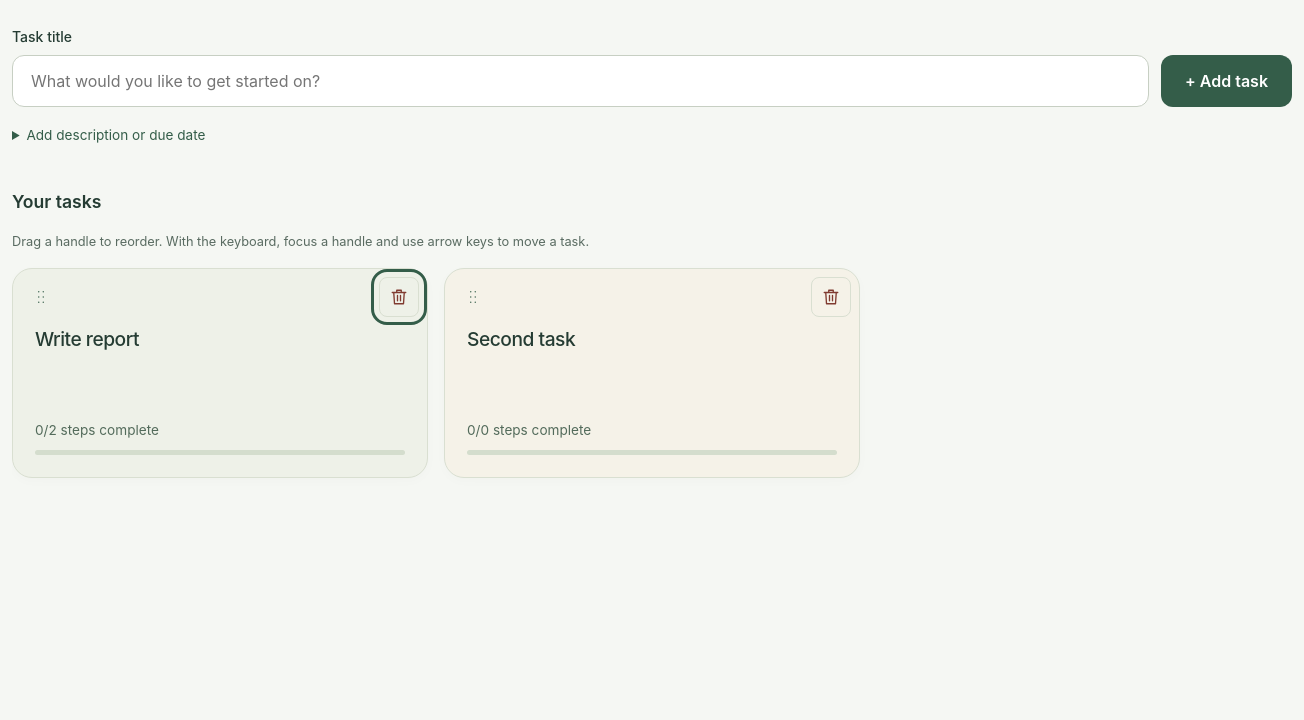
dashboard trash supports keyboard confirmation and cancel without opening or dragging a task
Press Enter
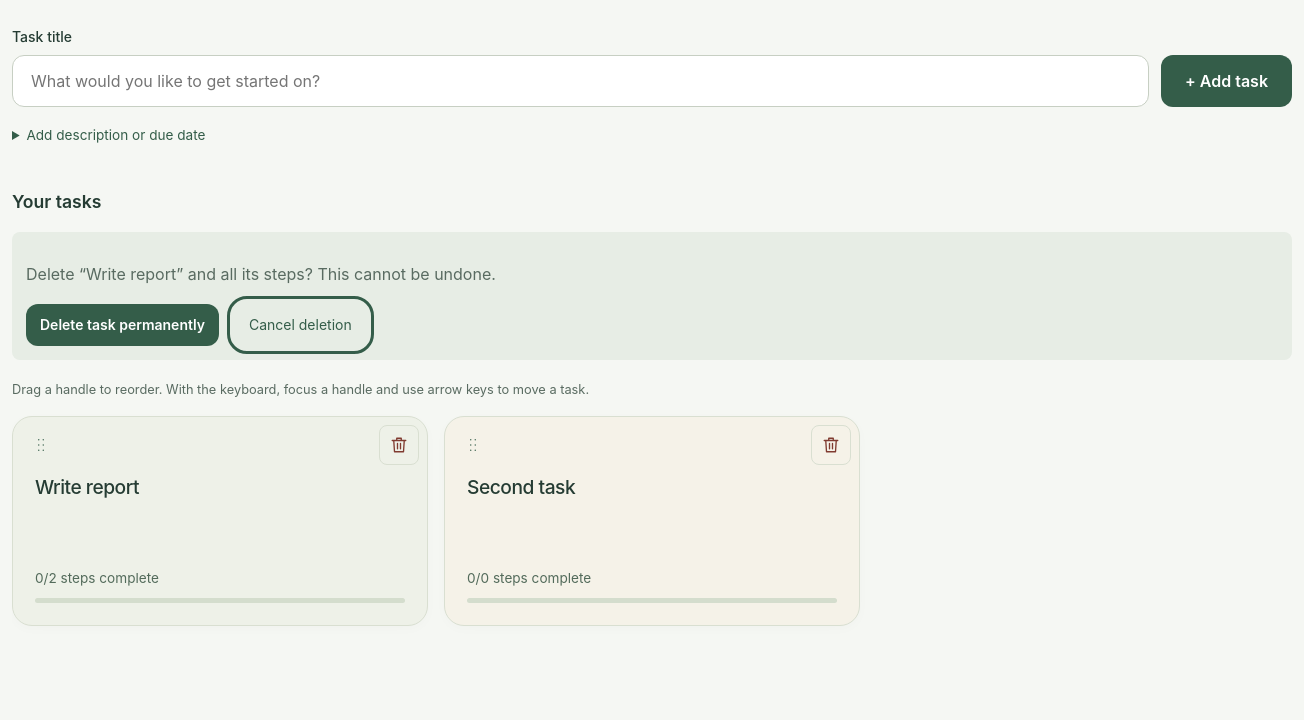
Expected: the navigation bar named "Your tasks" is shown, [12,416,860,626]
Now the element named "Delete task confirmation" shows "Delete “Write report” and all its steps?", box [12,232,1292,360]
Click the button "Cancel deletion": (300, 325) [235,304,366,346]
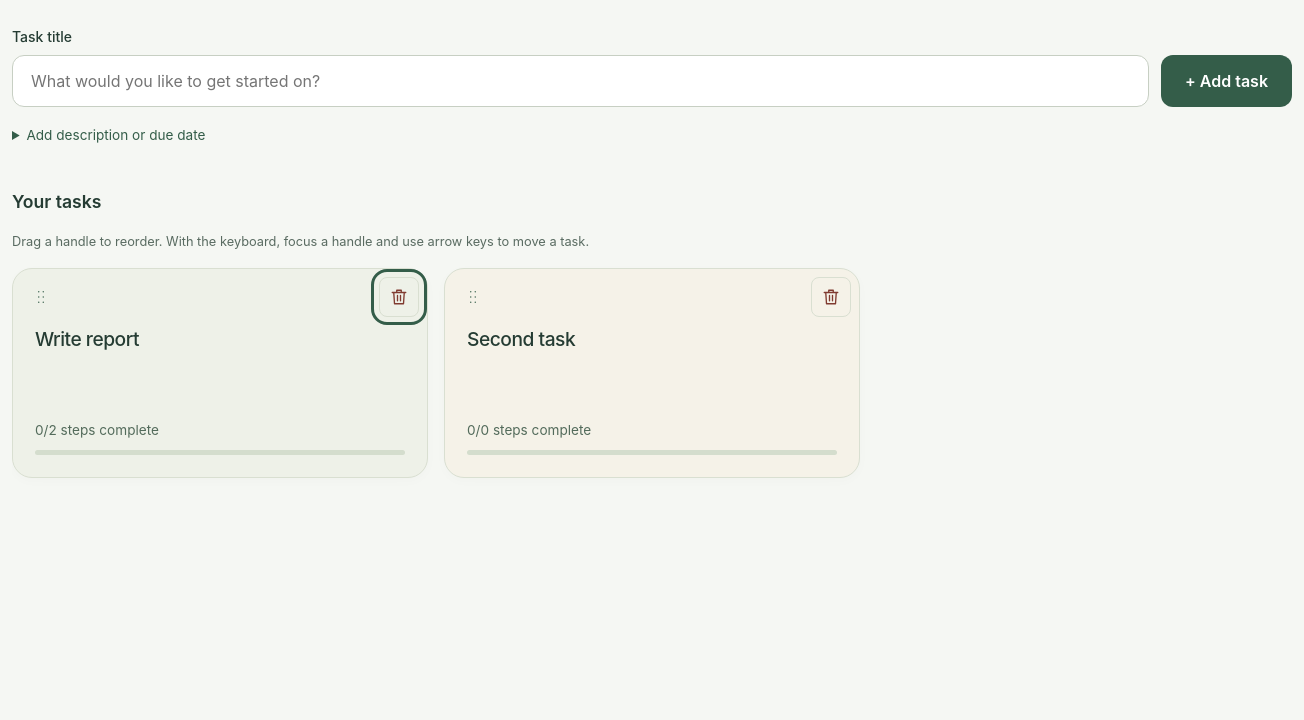
Click the button "Write report 0/2 steps complete": (87, 339) [13,270,427,478]
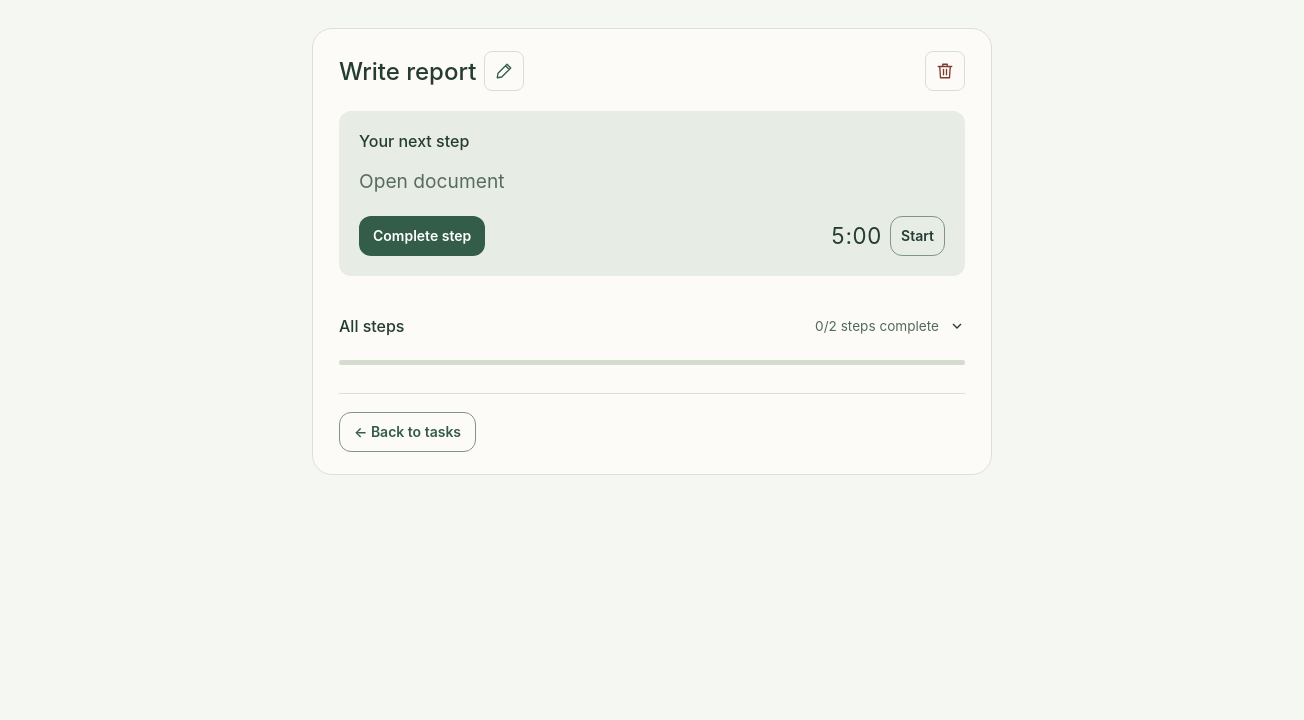
Now the element "Your next step" is shown, box [339,111,965,276]
Click the button named "Delete task": (945, 71) [925,51,965,91]
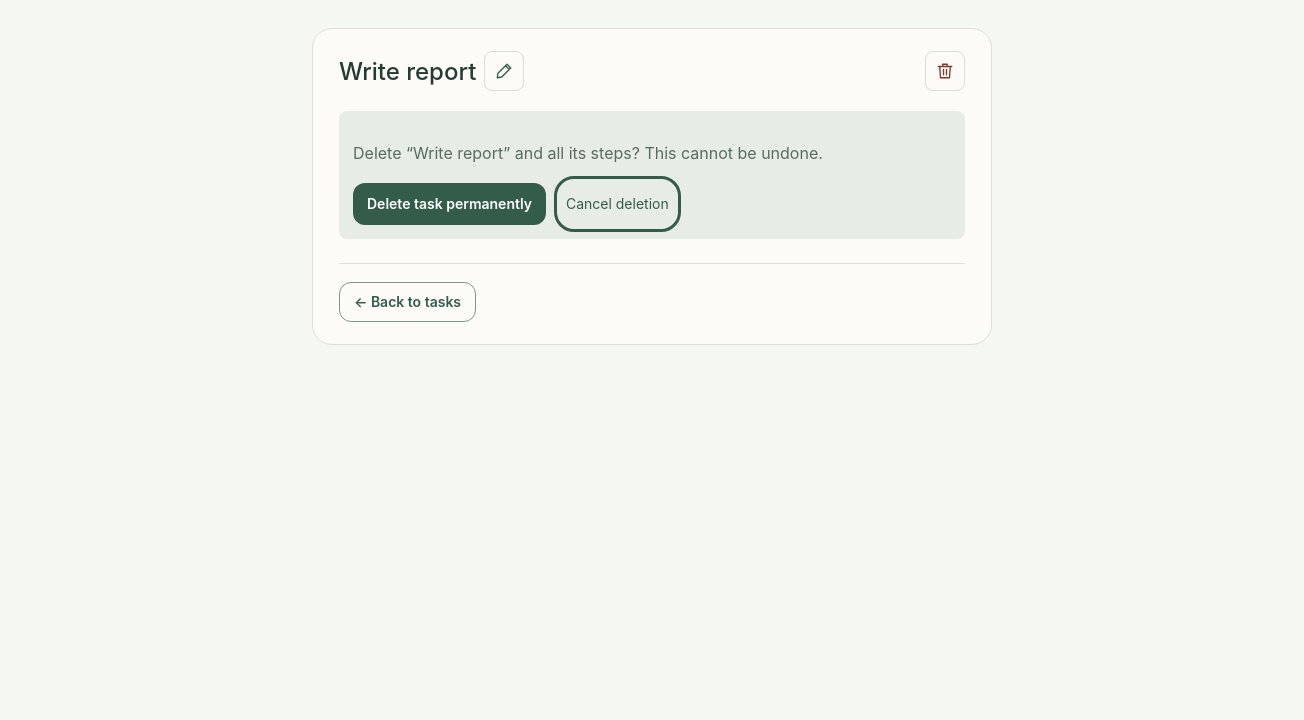
Now the element named "Delete task confirmation" shows "Delete “Write report” and all its steps?", box [339,111,965,239]
